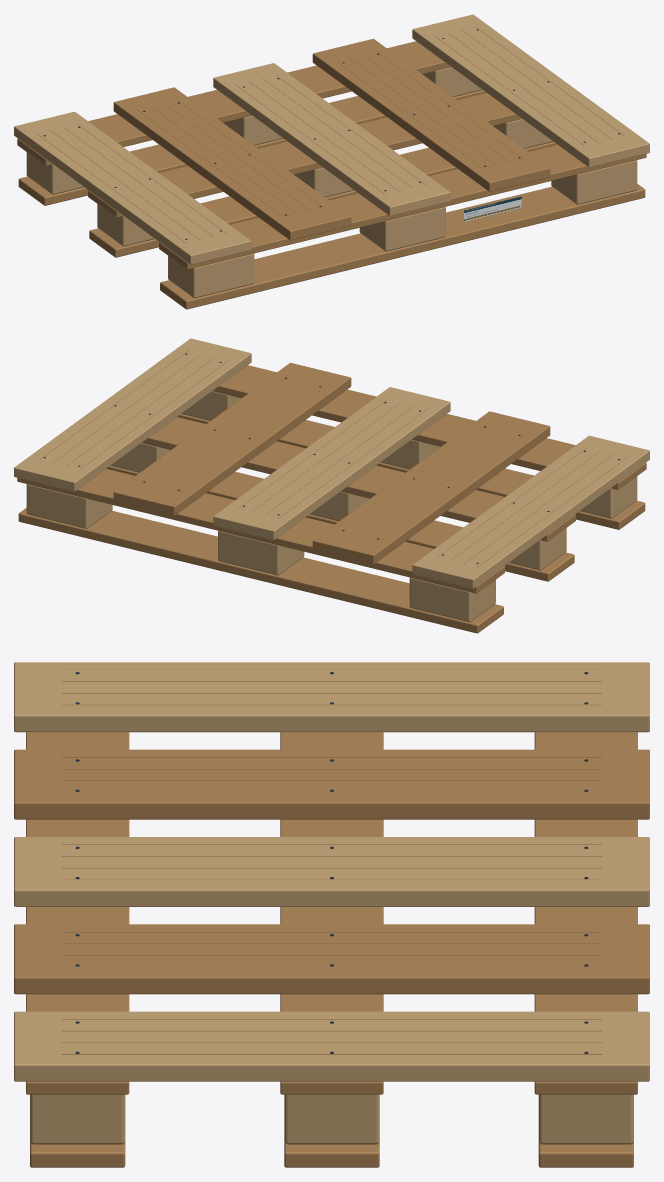
Rendered from pallet.glb.
The picture shows the model from 3 angles, top to bottom: view 1: azimuth 30°, elevation 25°; view 2: azimuth 150°, elevation 25°; view 3: azimuth 270°, elevation 25°; orthographic projection. The views are drawn at different scales.
Parts seen in each view (by area): view 1: DeckBoard1, DeckBoard3, DeckBoard4, DeckBoard2, DeckBoard0, Runner0.32, CrossBoard0.32, CrossBoard0, CrossBoard-0.32, Runner-0.32, Runner0, SpacerBlock6 (+9 smaller); view 2: DeckBoard1, DeckBoard3, DeckBoard4, DeckBoard2, DeckBoard0, Runner-0.32, CrossBoard-0.32, CrossBoard0, CrossBoard0.32, Runner0.32, Runner0, SpacerBlock0 (+8 smaller); view 3: DeckBoard1, DeckBoard3, DeckBoard4, DeckBoard0, DeckBoard2, CrossBoard0, CrossBoard-0.32, CrossBoard0.32, SpacerBlock5, SpacerBlock2, SpacerBlock8, Runner-0.32 (+7 smaller).
Boxes of the visible parts, box(x1,y1,x2,y2) form: DeckBoard1: box(113, 87, 351, 240); DeckBoard3: box(312, 38, 550, 191); DeckBoard4: box(412, 14, 649, 167); DeckBoard2: box(213, 63, 450, 216); DeckBoard0: box(14, 111, 251, 264); Runner0.32: box(160, 184, 645, 309); CrossBoard0.32: box(159, 145, 646, 269); CrossBoard0: box(88, 93, 521, 217); CrossBoard-0.32: box(17, 41, 451, 165); Runner-0.32: box(18, 90, 486, 205); Runner0: box(89, 142, 557, 257); SpacerBlock6: box(168, 253, 254, 298); DeckBoard1: box(312, 411, 550, 564); DeckBoard3: box(113, 362, 351, 515); DeckBoard4: box(14, 338, 251, 491); DeckBoard2: box(213, 387, 450, 540); DeckBoard0: box(412, 435, 649, 588); Runner-0.32: box(18, 508, 503, 633); CrossBoard-0.32: box(17, 469, 504, 593); CrossBoard0: box(142, 417, 575, 541); CrossBoard0.32: box(212, 365, 646, 489); Runner0.32: box(177, 414, 645, 529); Runner0: box(106, 466, 574, 581); SpacerBlock0: box(409, 577, 495, 622); DeckBoard1: box(14, 749, 649, 819); DeckBoard3: box(14, 924, 649, 994); DeckBoard4: box(14, 1011, 649, 1081); DeckBoard0: box(14, 662, 649, 732); DeckBoard2: box(14, 837, 649, 906); CrossBoard0: box(280, 732, 383, 1094); CrossBoard-0.32: box(534, 732, 637, 1094); CrossBoard0.32: box(26, 732, 129, 1094); SpacerBlock5: box(284, 1094, 379, 1144); SpacerBlock2: box(538, 1094, 633, 1144); SpacerBlock8: box(30, 1094, 125, 1144); Runner-0.32: box(538, 1141, 633, 1167).
Bounding box in the file's own units: 1.2 × 0.1448 × 0.8.
Materials: 4 (1 with a texture image).
